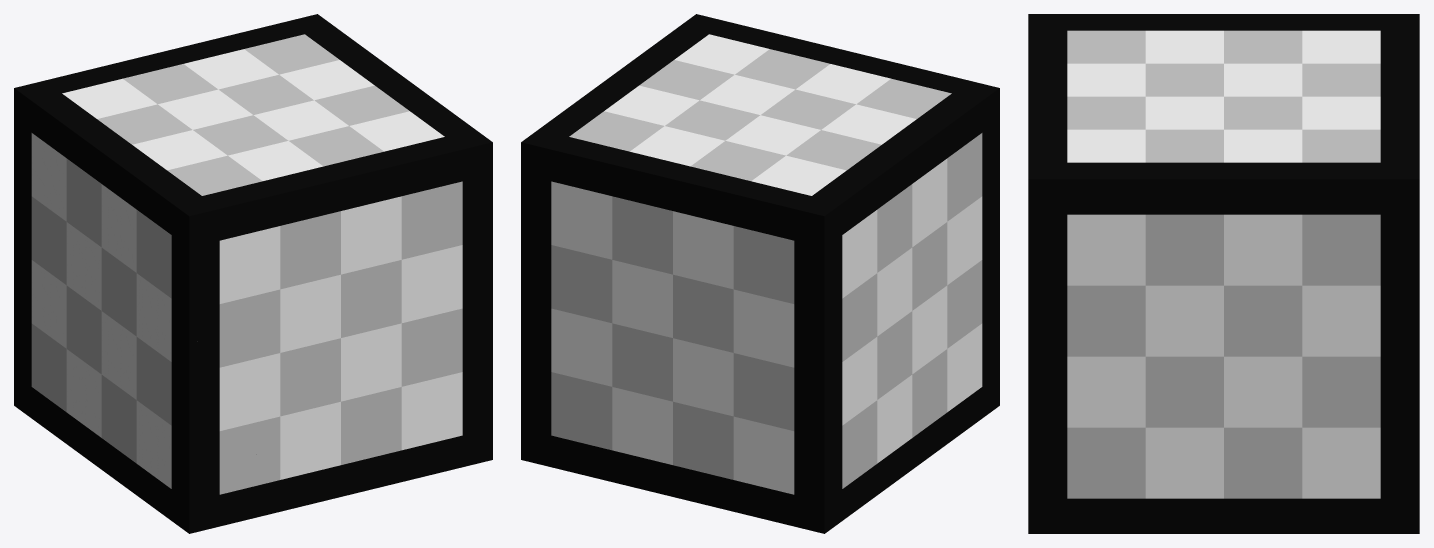
Rendered from GooseBox_Chequered.fbx.
3 views of the same model, side by side, from view 1: azimuth 30°, elevation 25°; view 2: azimuth 150°, elevation 25°; view 3: azimuth 270°, elevation 25° (orthographic). The views are drawn at different scales.
Visible parts, largest first — view 1: Box; view 2: Box; view 3: Box.
Boxes of the visible parts, box(x1,y1,x2,y2) form: Box: box(14, 14, 492, 533); Box: box(521, 14, 999, 533); Box: box(1028, 14, 1419, 533).
Bounding box in the file's own units: 10 × 10 × 10.
1 material, 1 textured.
